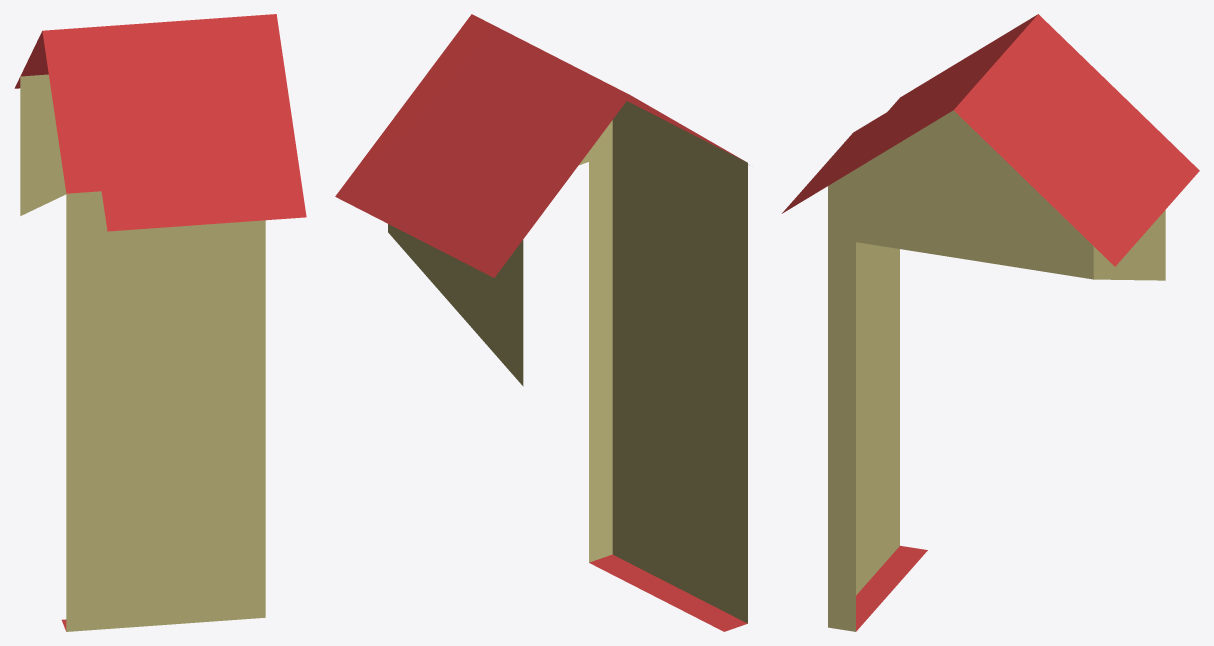
3 renders of one model, left to right at view 1: azimuth 30°, elevation 25°; view 2: azimuth 150°, elevation 25°; view 3: azimuth 270°, elevation 25°, orthographic. The views are drawn at different scales.
Bounding box in the file's own units: 6.98 × 8.61 × 12.56.
